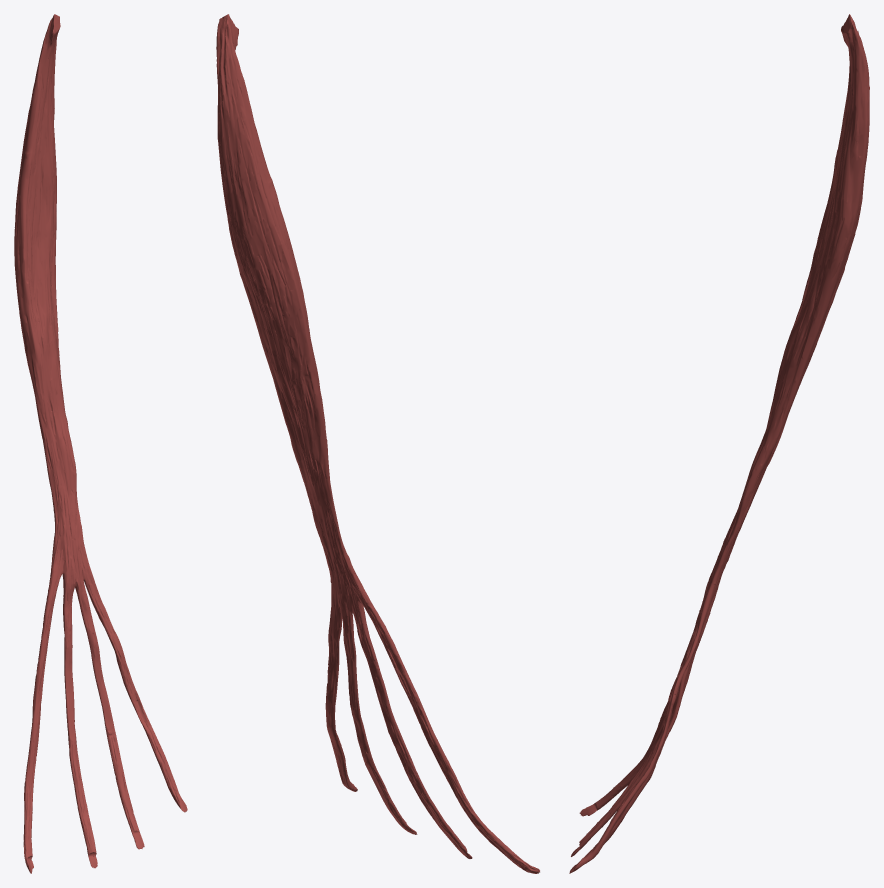
Rendered from FMA38501.glb.
3 renders of one model, left to right at view 1: azimuth 30°, elevation 25°; view 2: azimuth 150°, elevation 25°; view 3: azimuth 270°, elevation 25°, orthographic. The views are drawn at different scales.
Visible parts, largest first — view 1: FMA38501; view 2: FMA38501; view 3: FMA38501.
Boxes of the visible parts, box(x1,y1,x2,y2) form: FMA38501: box(14, 14, 187, 873); FMA38501: box(216, 14, 539, 873); FMA38501: box(569, 14, 869, 873).
Size of the model in its own units: 0.0826 by 0.382 by 0.1173.
